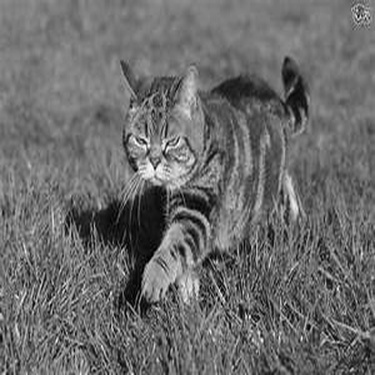cat: (117, 49, 309, 307)
